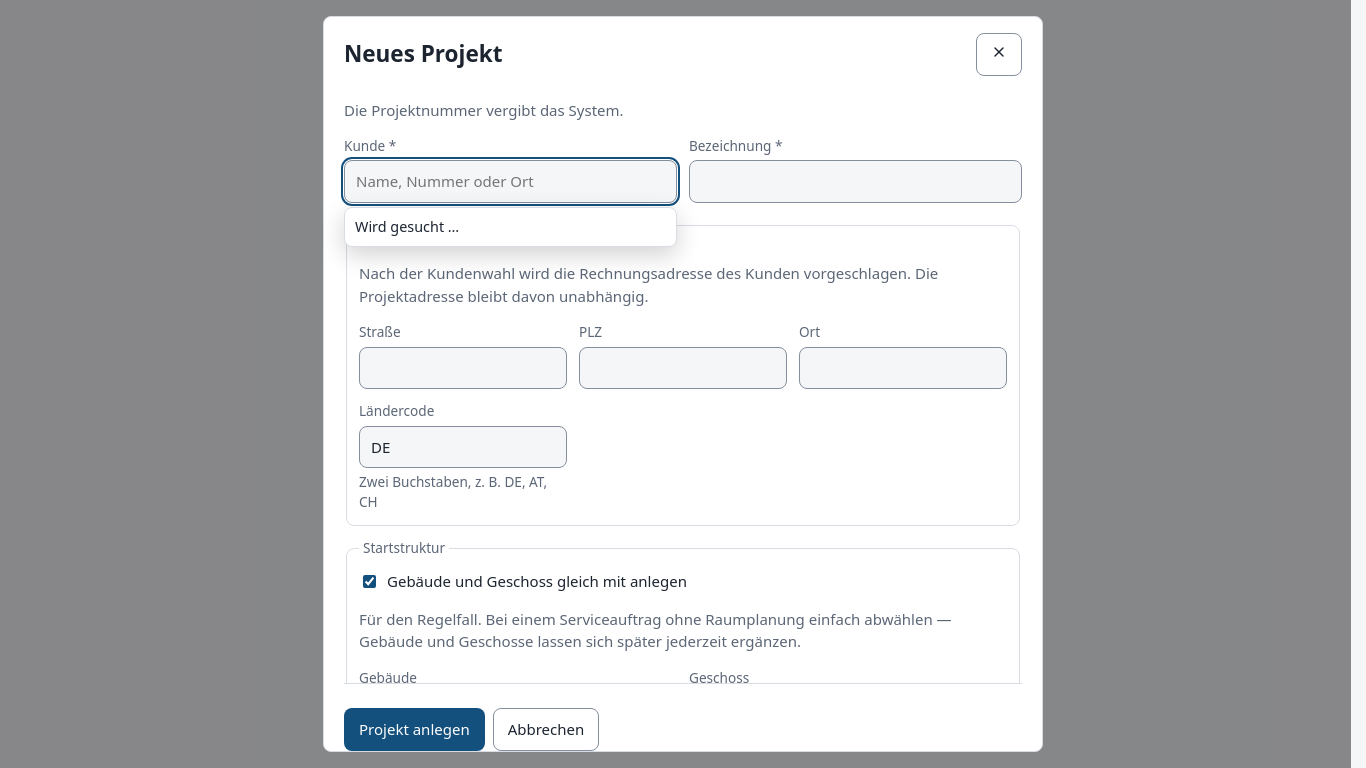
Test: Projektanlage im Dialog › verlangt Kunde und Bezeichnung
Click the button "Projekt anlegen". click: click(414, 730)
box: [344, 708, 485, 751]
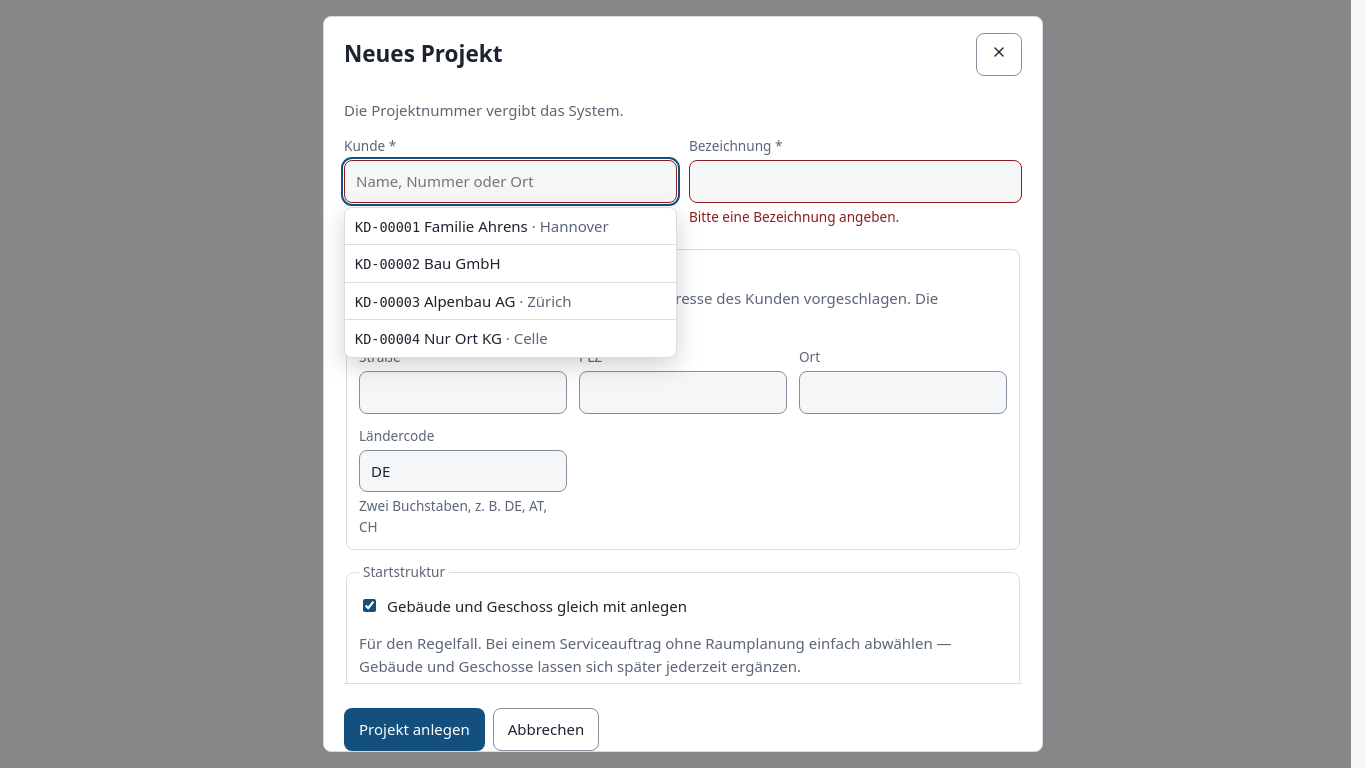
Expected: the text "Bitte einen Kunden auswählen." is shown, [344, 207, 542, 226]
Expected: the text "Bitte eine Bezeichnung angeben." is shown, [689, 207, 899, 226]
